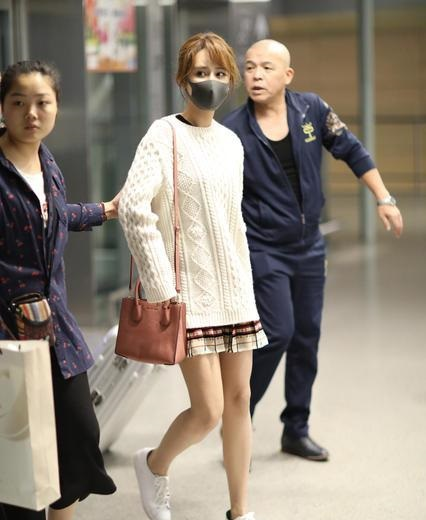face: (4, 75, 55, 143), (243, 43, 283, 105)
face_mask: (185, 48, 227, 110)
